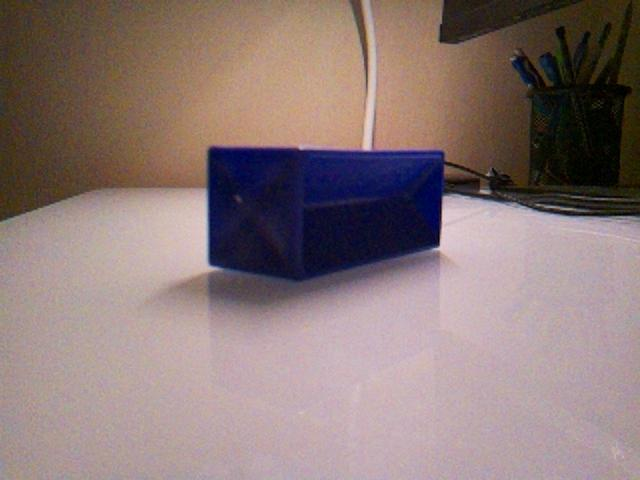blue: (205, 143, 447, 281)
